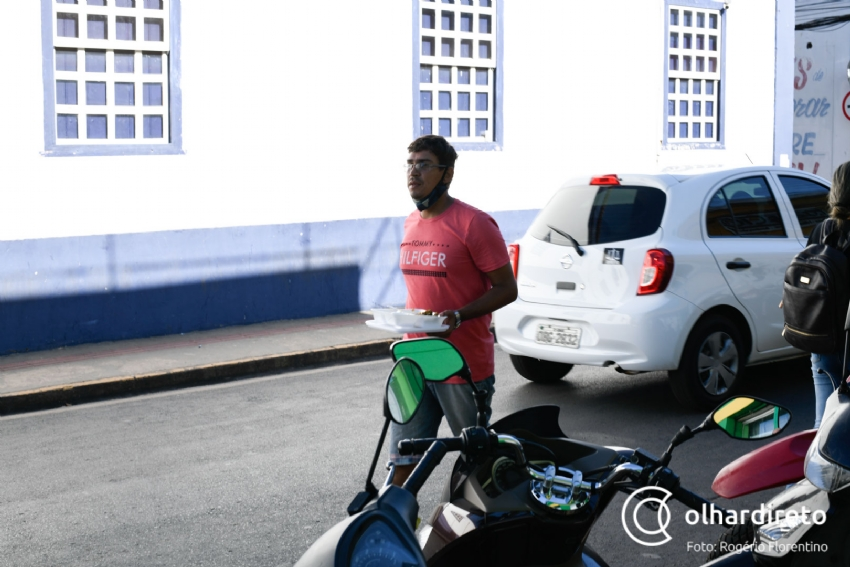mask_weared_incorrect: (402, 145, 455, 211)
